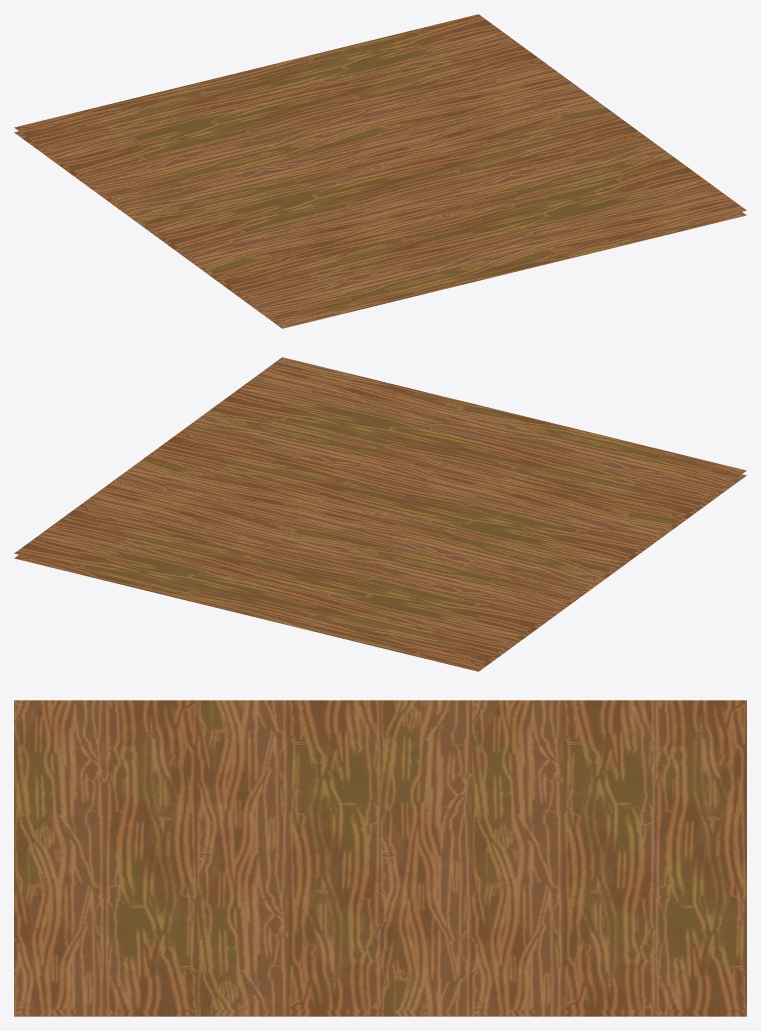
The model's file is med-assoalho-claro.gltf.
The picture shows the model from 3 angles, top to bottom: view 1: azimuth 30°, elevation 25°; view 2: azimuth 150°, elevation 25°; view 3: azimuth 270°, elevation 25°; orthographic projection. The views are drawn at different scales.
Visible parts, largest first — view 1: Floor_WoodLight; view 2: Floor_WoodLight; view 3: Floor_WoodLight.
Part boxes in pixels (x1,y1,x2,y2): Floor_WoodLight: (14, 14, 746, 328); Floor_WoodLight: (14, 357, 746, 671); Floor_WoodLight: (14, 700, 746, 1016).
Bounding box in the file's own units: 1 × 0.01 × 1.
1 material, 1 textured.
